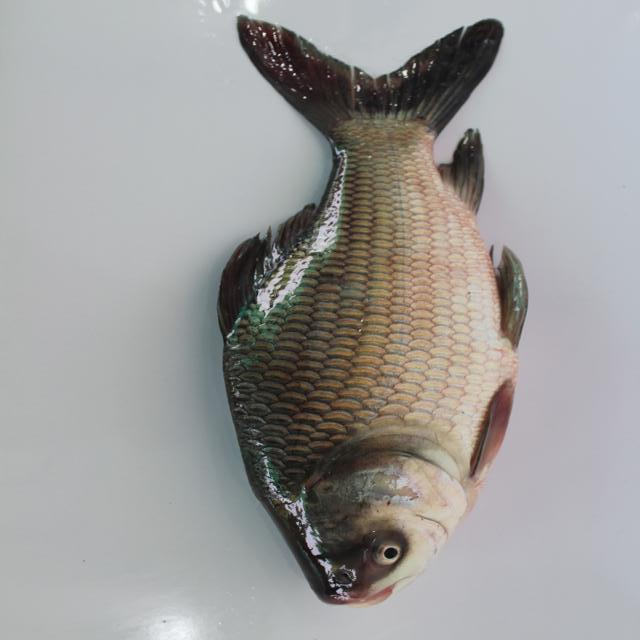Catla: (184, 5, 538, 619)
